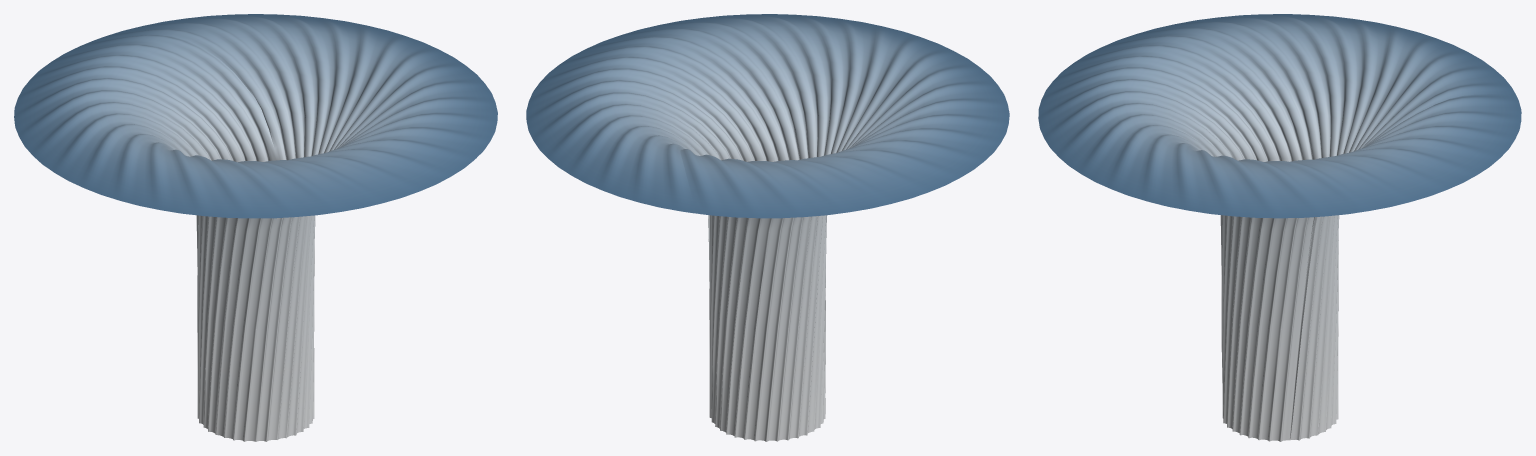
File: vortex1.glb
3 views of the same model, side by side, from view 1: azimuth 30°, elevation 25°; view 2: azimuth 150°, elevation 25°; view 3: azimuth 270°, elevation 25° (orthographic).
Parts seen in each view (by area): view 1: water_vortex1; view 2: water_vortex1; view 3: water_vortex1.
Boxes of the visible parts, x1,y1,x2,y2 form: water_vortex1: (14, 14, 497, 441); water_vortex1: (526, 14, 1009, 441); water_vortex1: (1038, 14, 1521, 441).
Size of the model in its own units: 13.19 by 9.67 by 13.18.
1 material, 1 textured.
